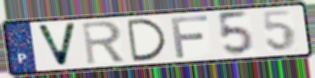5: (215, 9, 256, 58), (261, 9, 299, 53)
D: (124, 17, 170, 63)
F: (169, 14, 211, 60)
R: (80, 19, 128, 67)
V: (34, 21, 80, 68)
